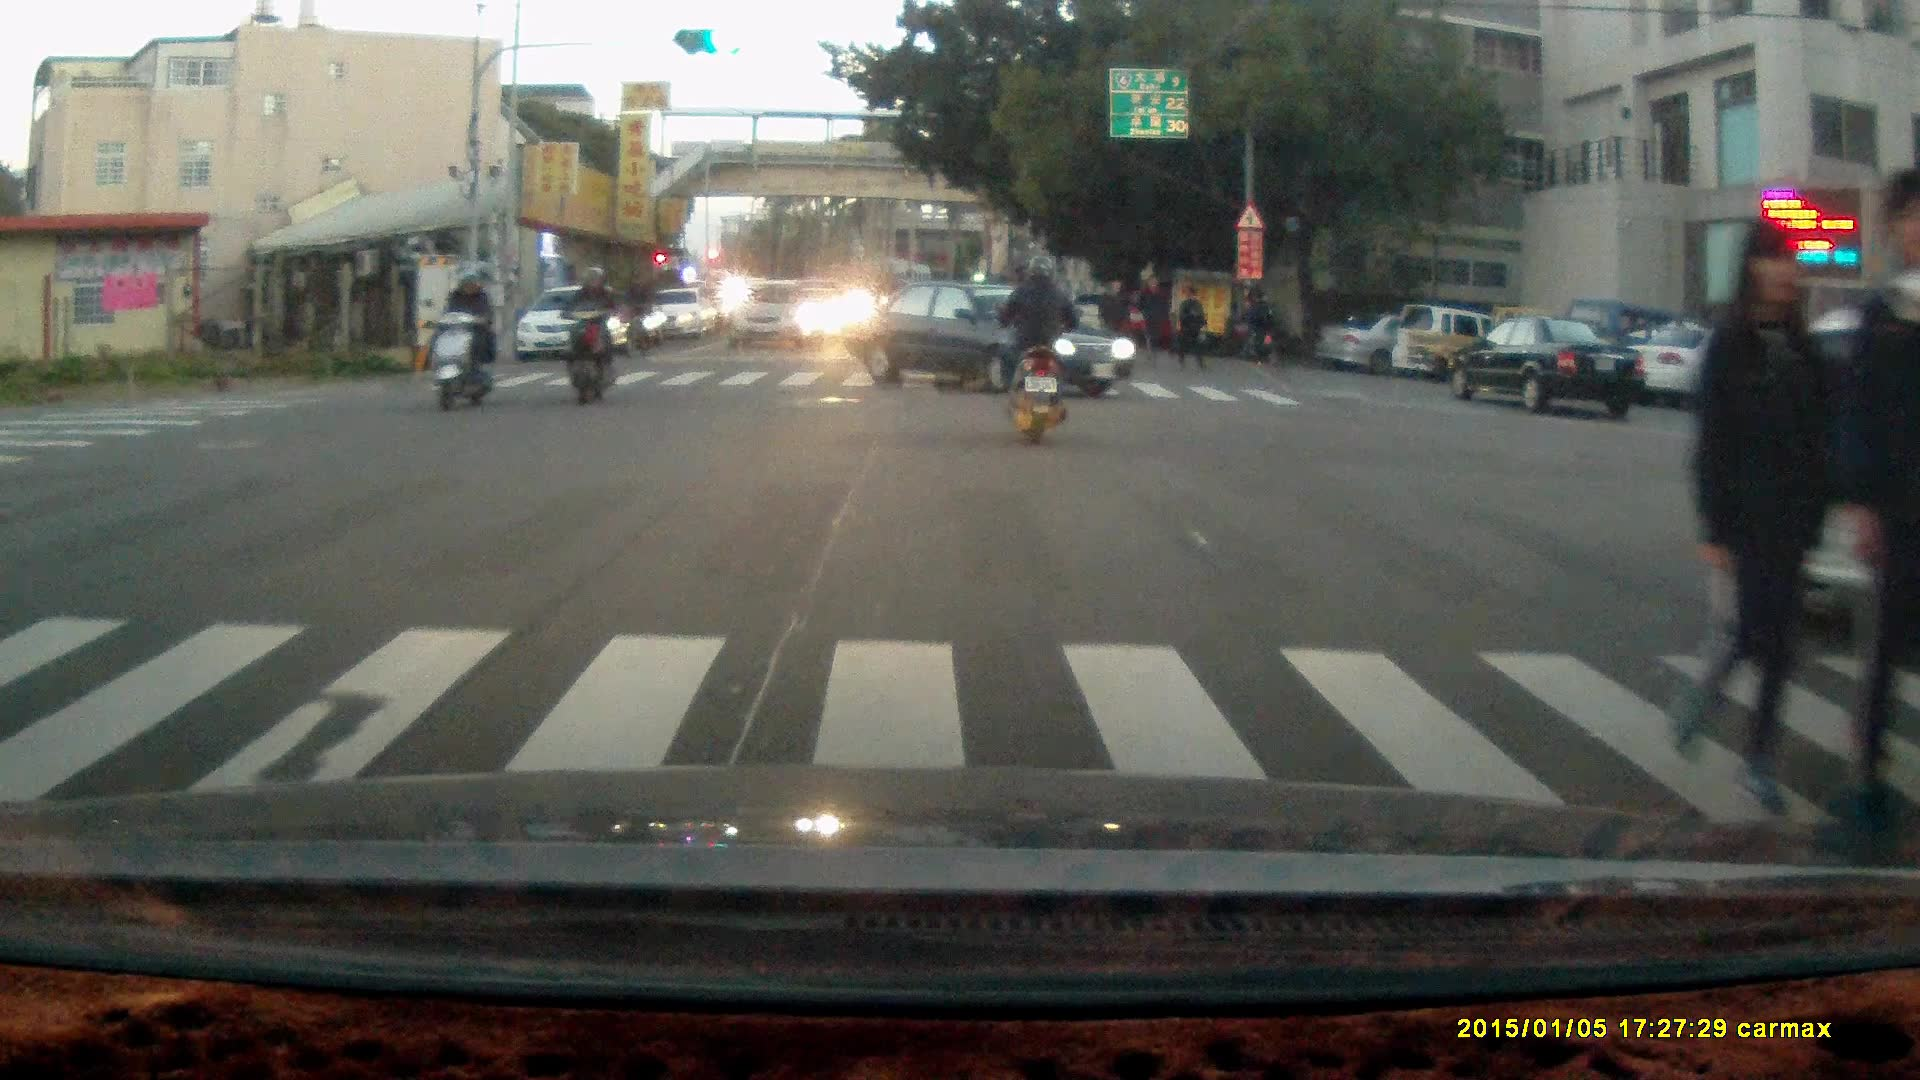pedestrian: (1672, 218, 1849, 812), (1848, 168, 1920, 827), (1134, 271, 1168, 364), (1174, 282, 1207, 374), (1245, 288, 1276, 365), (1098, 278, 1128, 360)
rider: (991, 252, 1078, 447), (430, 261, 498, 411), (553, 264, 622, 409), (620, 267, 655, 364)
vehicle: (838, 274, 1136, 401), (1456, 315, 1650, 414), (1617, 319, 1804, 408), (1315, 310, 1494, 374), (517, 287, 636, 367), (731, 281, 824, 358)
